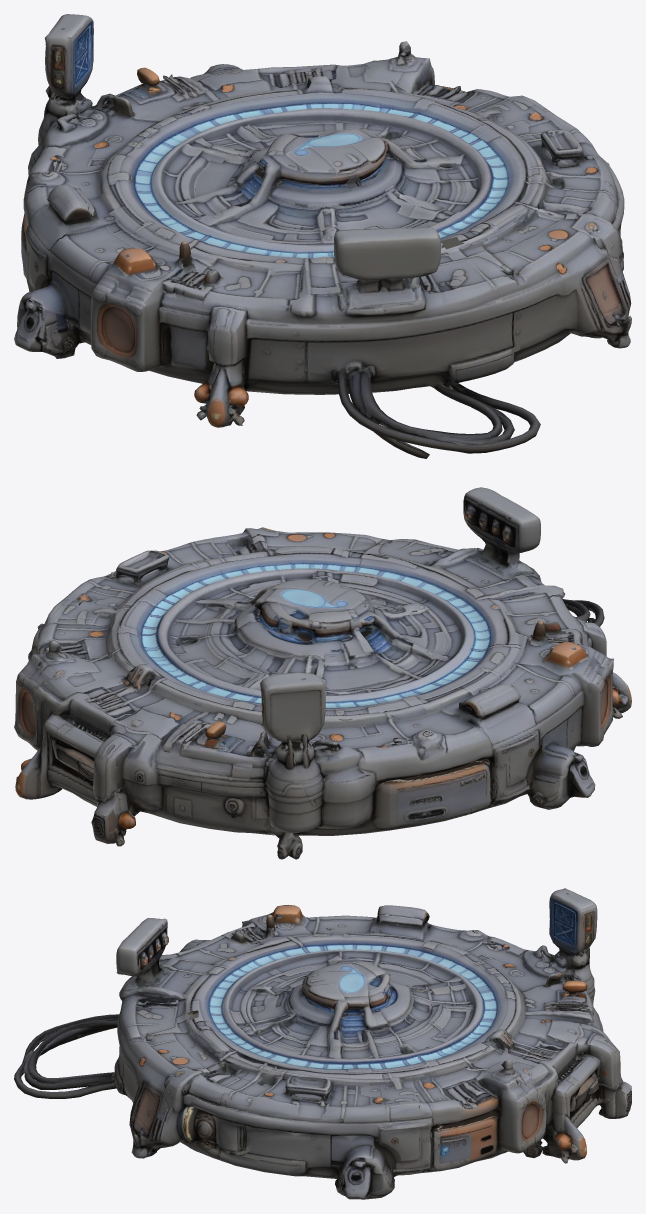
File: sci-fi+teleporter+pad+3d+model (2).glb
The picture shows the model from 3 angles, top to bottom: view 1: azimuth 30°, elevation 25°; view 2: azimuth 150°, elevation 25°; view 3: azimuth 270°, elevation 25°; orthographic projection. The views are drawn at different scales.
Visible parts, largest first — view 1: tripo_node_b99a5293-a599-4972-b072-37cf237c5ca8; view 2: tripo_node_b99a5293-a599-4972-b072-37cf237c5ca8; view 3: tripo_node_b99a5293-a599-4972-b072-37cf237c5ca8.
Part boxes in pixels (x1,y1,x2,y2): tripo_node_b99a5293-a599-4972-b072-37cf237c5ca8: [14, 14, 631, 458]; tripo_node_b99a5293-a599-4972-b072-37cf237c5ca8: [14, 487, 631, 859]; tripo_node_b99a5293-a599-4972-b072-37cf237c5ca8: [14, 888, 631, 1199].
Size of the model in its own units: 0.8725 by 0.271 by 0.9783.
1 material, 1 textured.
